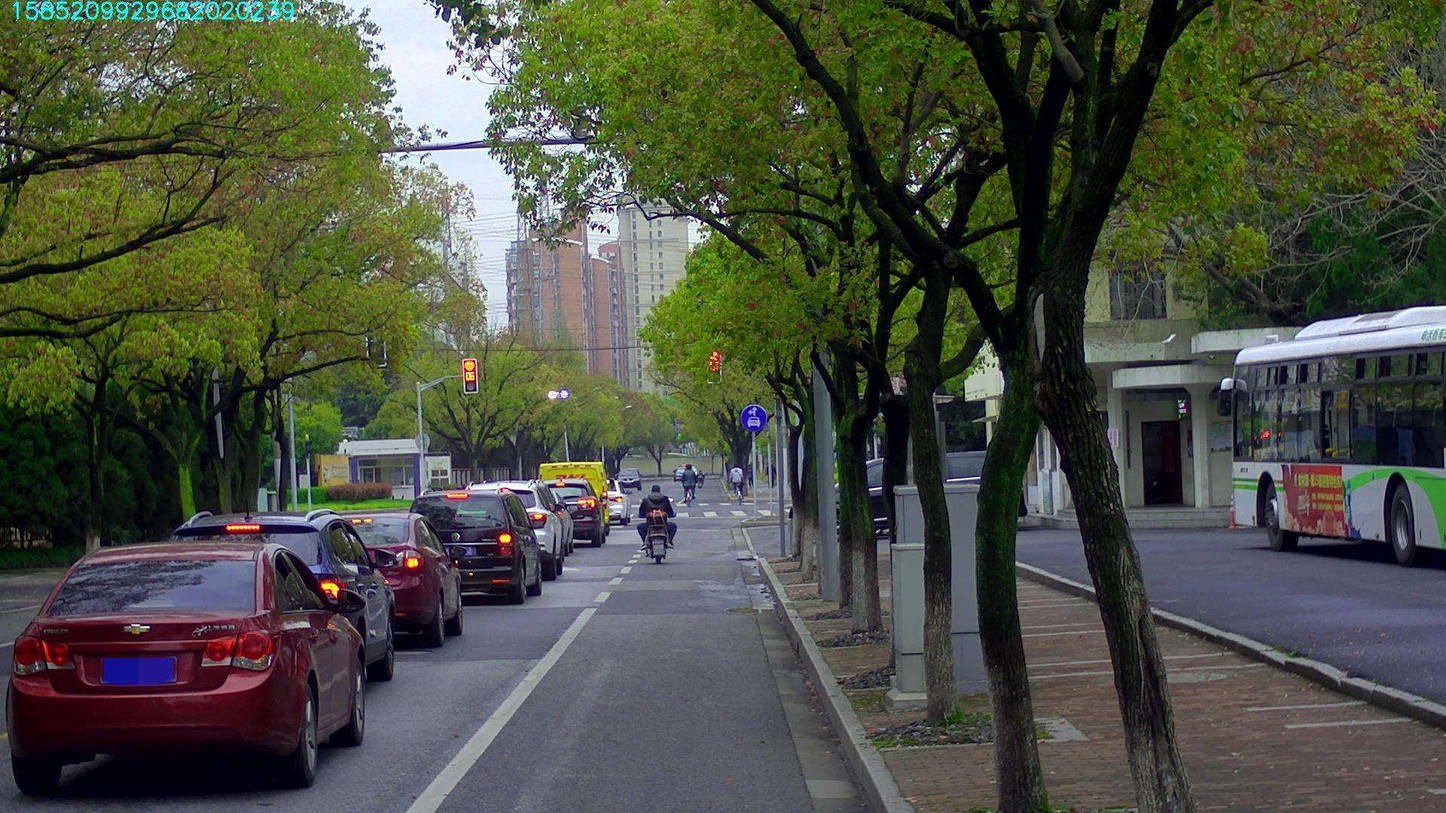red: (462, 358, 477, 391), (707, 351, 721, 381)
